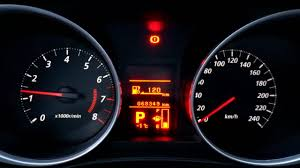Digital_Meter: (130, 95, 176, 108)
